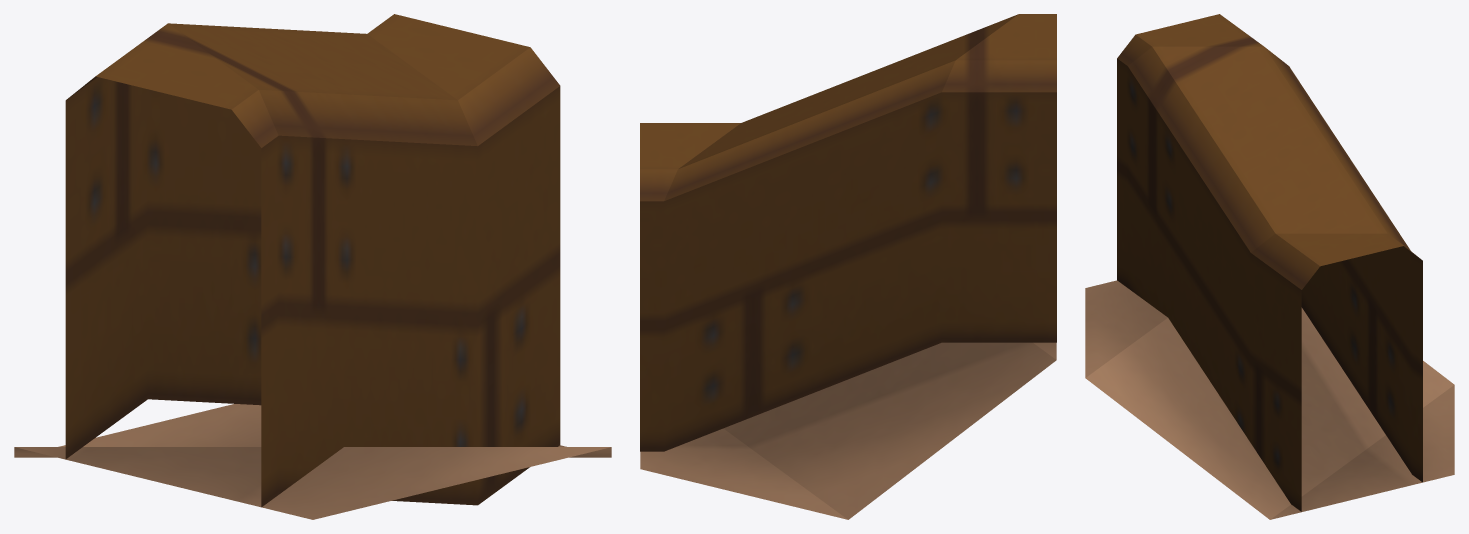
The model's file is Barriere_PP_HB_C1.FBX.
3 renders of one model, left to right at view 1: azimuth 30°, elevation 25°; view 2: azimuth 150°, elevation 25°; view 3: azimuth 270°, elevation 25°, orthographic. The views are drawn at different scales.
Visible parts, largest first — view 1: Barriere_PP_HB_C1; view 2: Barriere_PP_HB_C1; view 3: Barriere_PP_HB_C1.
Boxes of the visible parts, x1,y1,x2,y2 form: Barriere_PP_HB_C1: [14, 14, 611, 519]; Barriere_PP_HB_C1: [640, 14, 1056, 519]; Barriere_PP_HB_C1: [1085, 14, 1454, 519].
Size of the model in its own units: 0.9999 by 0.8747 by 0.866.
